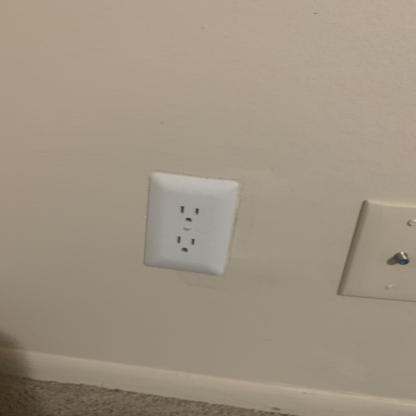OUTLET: (149, 171, 231, 272)
